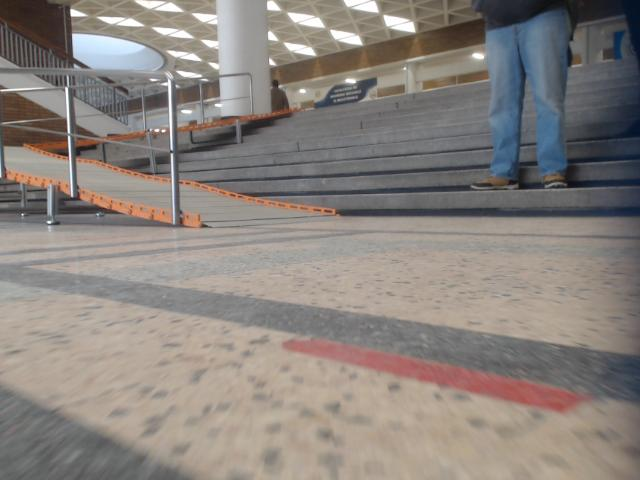rampUp: (4, 147, 172, 222), (180, 182, 332, 226)
ramps-railing: (0, 67, 182, 223), (3, 123, 117, 144), (125, 144, 168, 151)
